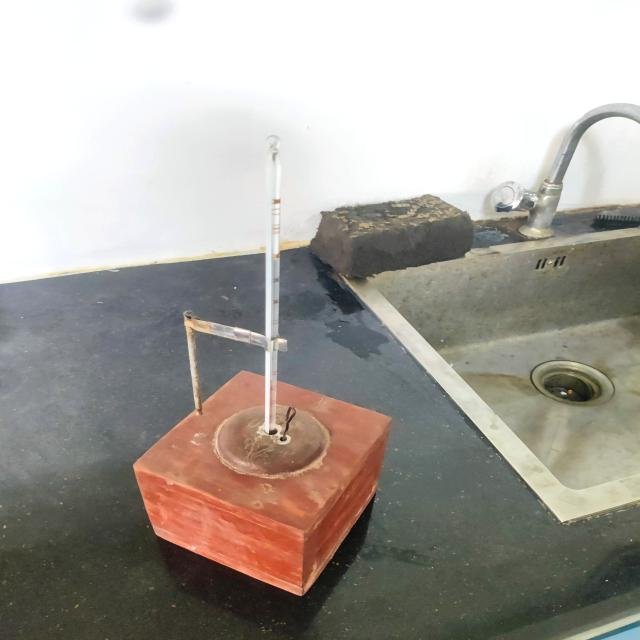Calorimeter: (117, 117, 410, 638)
